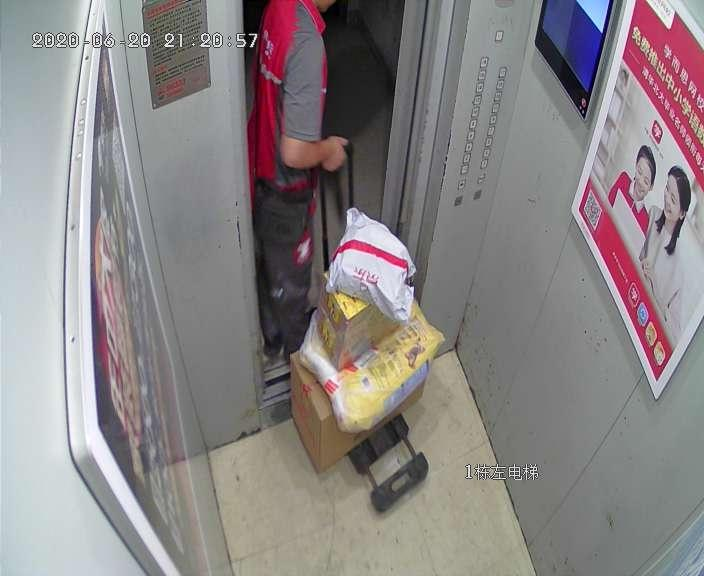person: (255, 0, 347, 354)
